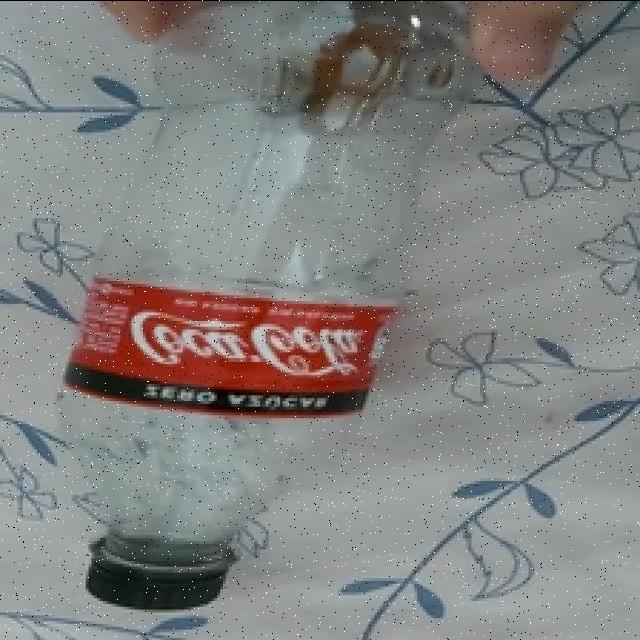plastic: (47, 0, 452, 616)
